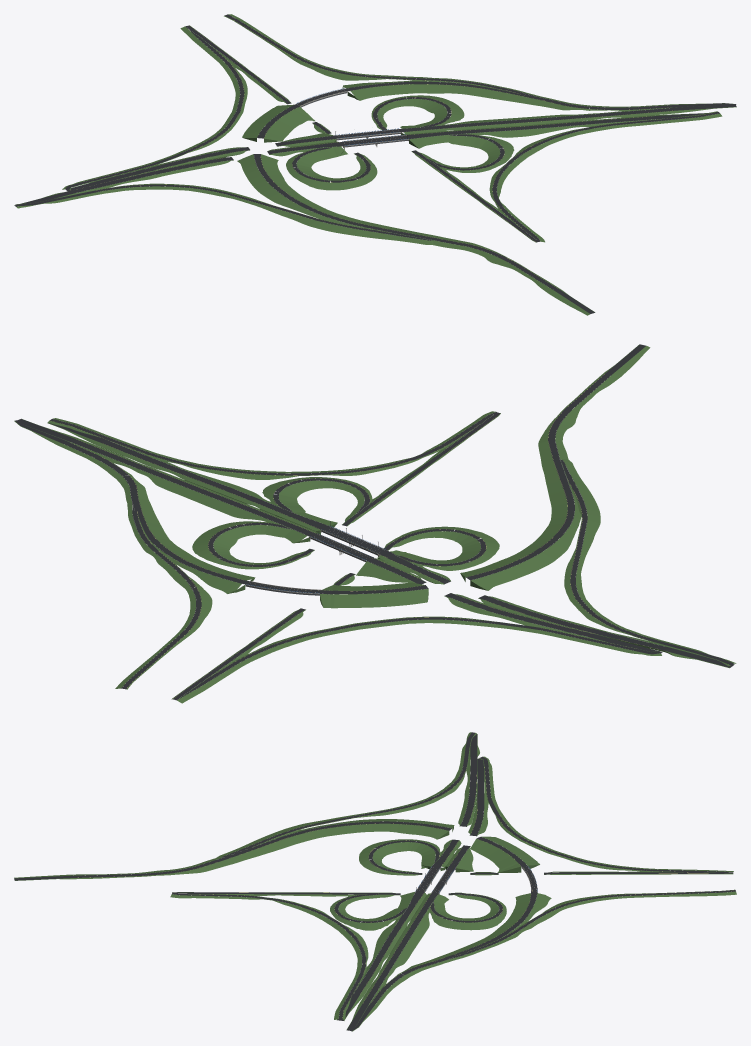
The model's file is br_h52_sherwood_park_1.gltf.
The picture shows the model from 3 angles, top to bottom: view 1: azimuth 30°, elevation 25°; view 2: azimuth 150°, elevation 25°; view 3: azimuth 270°, elevation 25°; orthographic projection. The views are drawn at different scales.
Visible parts, largest first — view 1: br_h52_sherwood_park_1; view 2: br_h52_sherwood_park_1; view 3: br_h52_sherwood_park_1.
Part boxes in pixels (box(x1,y1,x2,y2)): br_h52_sherwood_park_1: box(14, 14, 736, 315); br_h52_sherwood_park_1: box(14, 344, 736, 703); br_h52_sherwood_park_1: box(14, 732, 736, 1031).
Size of the model in its own units: 1461 by 33.99 by 1533.
